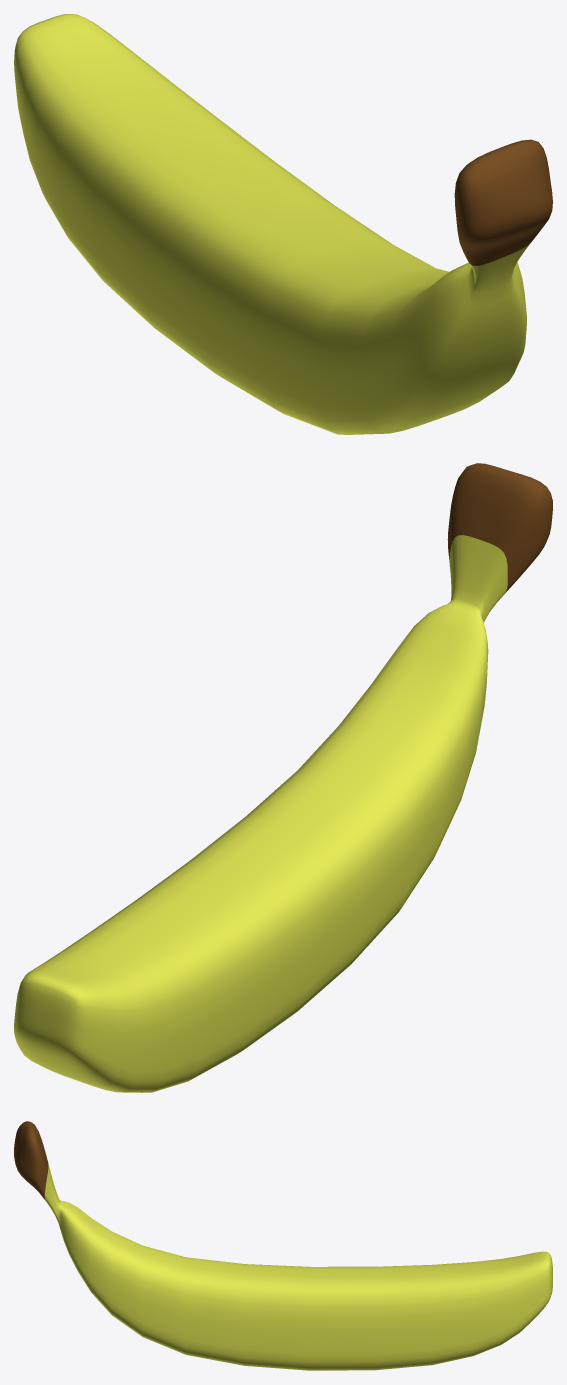
File: banana_normal.fbx
3 renders of one model, top to bottom at view 1: azimuth 30°, elevation 25°; view 2: azimuth 150°, elevation 25°; view 3: azimuth 270°, elevation 25°, orthographic. The views are drawn at different scales.
Visible parts, largest first — view 1: pCube1; view 2: pCube1; view 3: pCube1.
Part boxes in pixels (x1=…): pCube1: x1=14, y1=14, x2=552, y2=434; pCube1: x1=14, y1=463, x2=552, y2=1092; pCube1: x1=14, y1=1121, x2=552, y2=1370.
Bounding box in the file's own units: 1.19 × 2.97 × 6.41.
